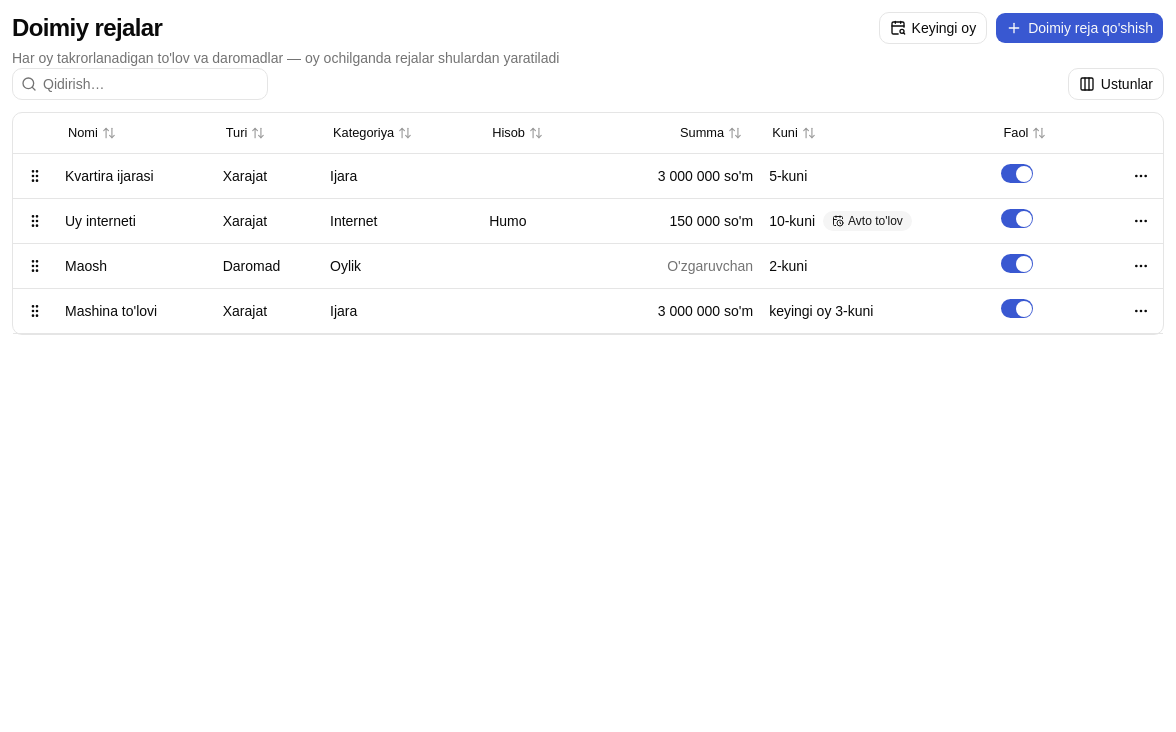
Test: RecurringRulesPage (E22-T04) › faol/to'xtatilgan — darhol, server xatosida qaytadi
The width and height of the screenshot is (1176, 732).
Click the switch named "Maosh: Faol". click: (1016, 264)
box: [1000,254,1032,273]
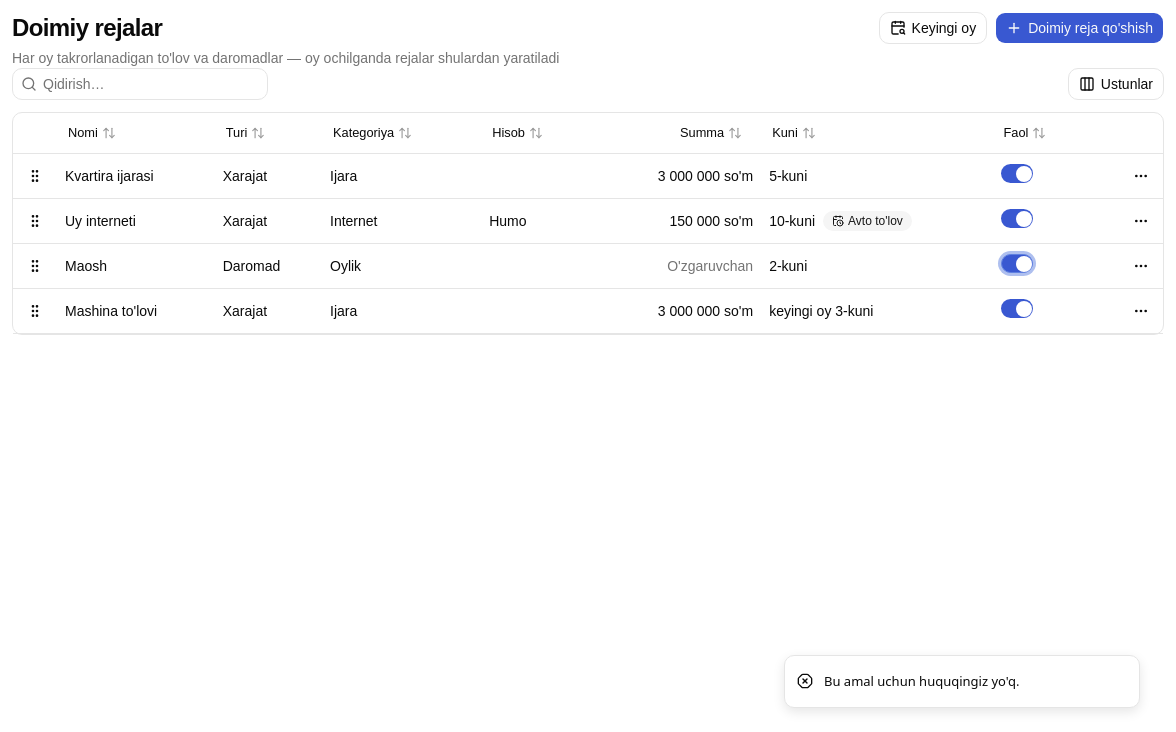
Expected: the text "Bu amal uchun huquqingiz yo'q." is shown, [824,672,1019,691]
